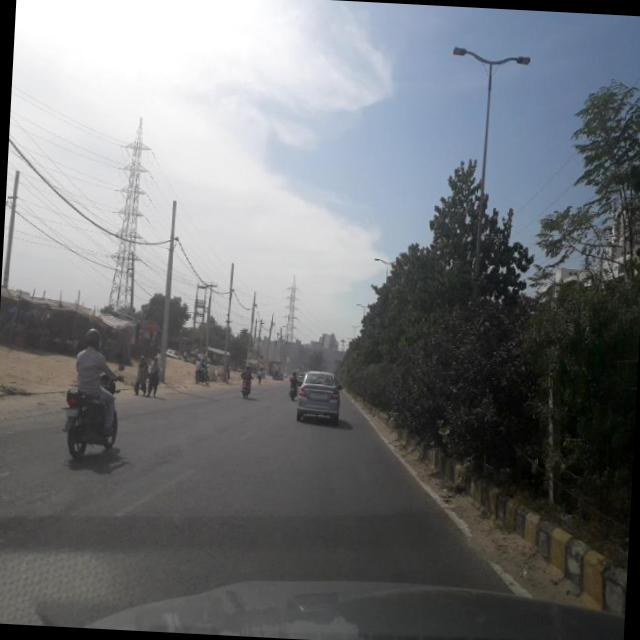crack: (18, 435, 446, 593)
